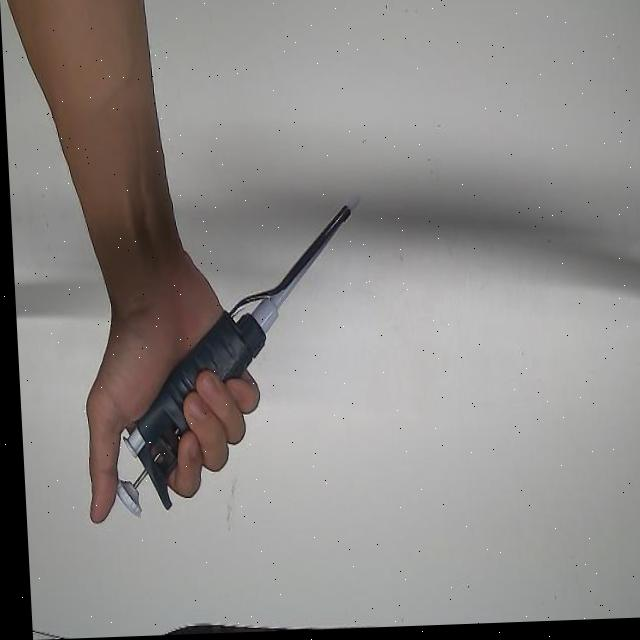Single Channel Pipettor: (97, 193, 374, 518)
